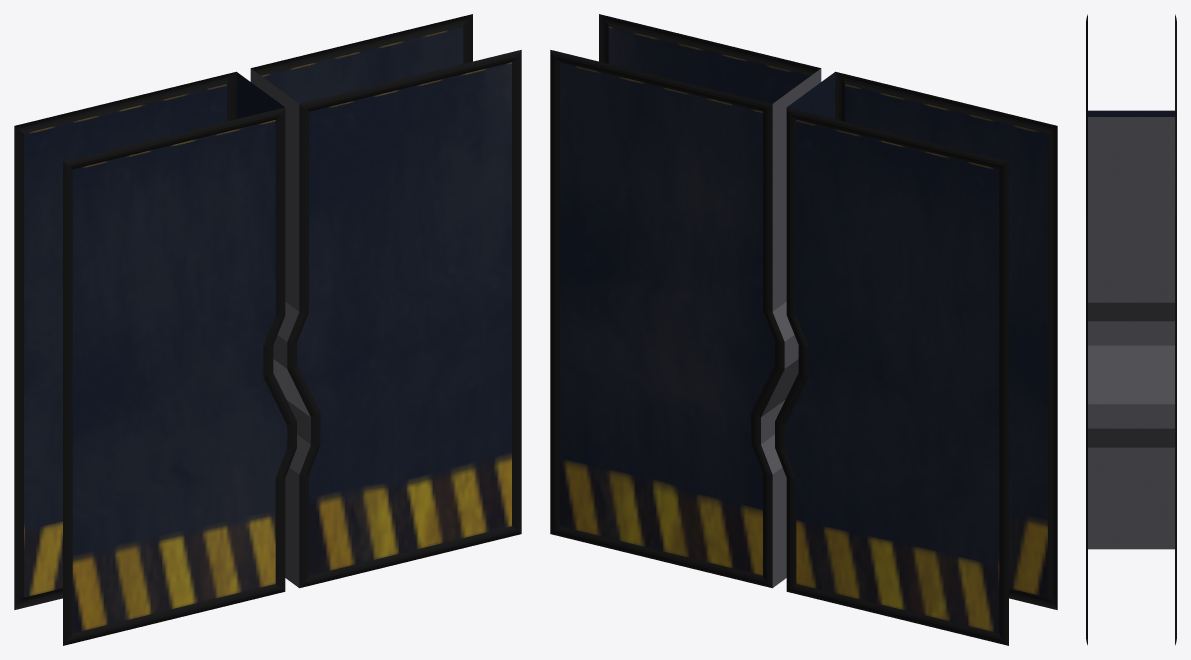
Rendered from door-normal_000001.obj.
3 renders of one model, left to right at view 1: azimuth 30°, elevation 25°; view 2: azimuth 150°, elevation 25°; view 3: azimuth 270°, elevation 25°, orthographic. The views are drawn at different scales.
Visible parts, largest first — view 1: Door.Right_Cube.006, Door.Left_Cube.007; view 2: Door.Right_Cube.006, Door.Left_Cube.007; view 3: Door.Left_Cube.007, Door.Right_Cube.006.
Part boxes in pixels (x1,y1,x2,y2): Door.Right_Cube.006: (14, 71, 296, 645); Door.Left_Cube.007: (250, 14, 521, 588); Door.Right_Cube.006: (775, 71, 1057, 645); Door.Left_Cube.007: (550, 14, 821, 588); Door.Left_Cube.007: (1086, 117, 1176, 645); Door.Right_Cube.006: (1086, 14, 1176, 123).
Bounding box in the file's own units: 5.21 × 5.26 × 0.9998.
Materials: 6 (6 with a texture image).
